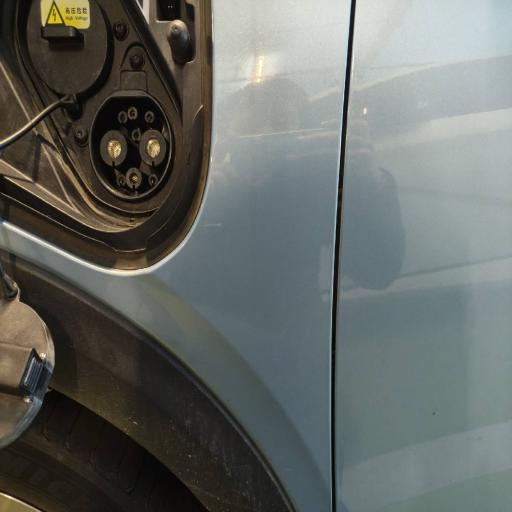DC_charging_port: (88, 88, 174, 202)
DC_hole: (138, 128, 167, 168), (100, 130, 128, 168)
PE: (126, 168, 142, 190)
